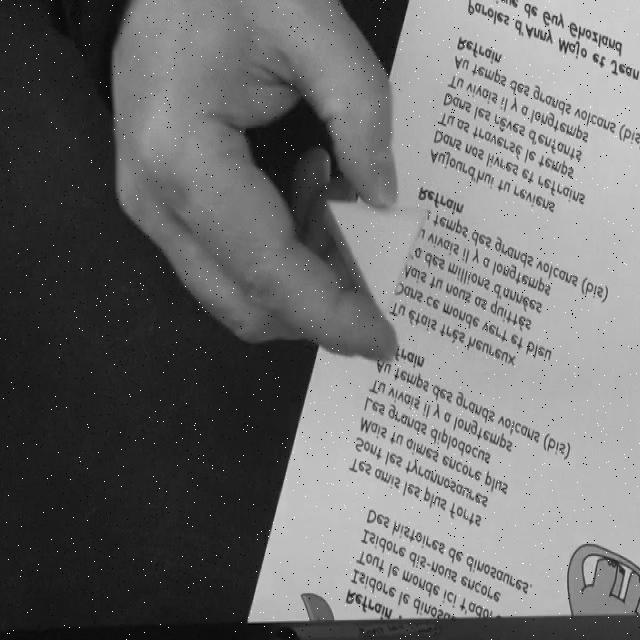triangle: (325, 201, 431, 323)
